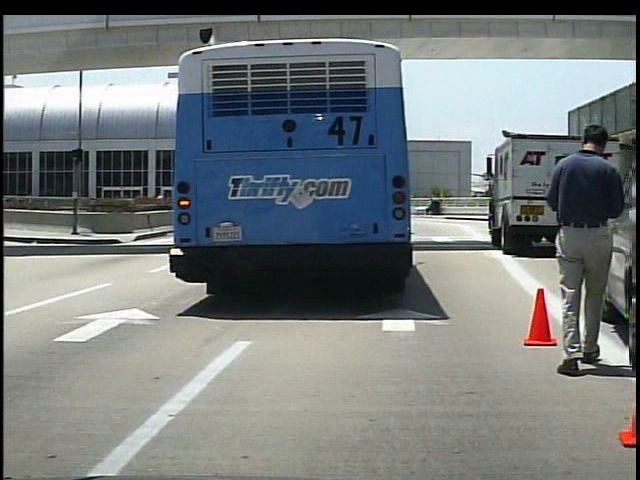person: (546, 117, 627, 373)
